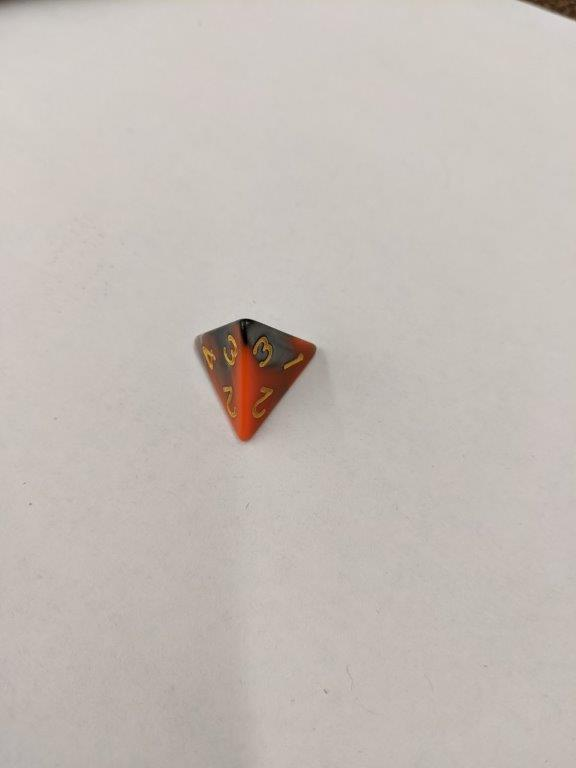d4-3: (188, 316, 320, 444)
